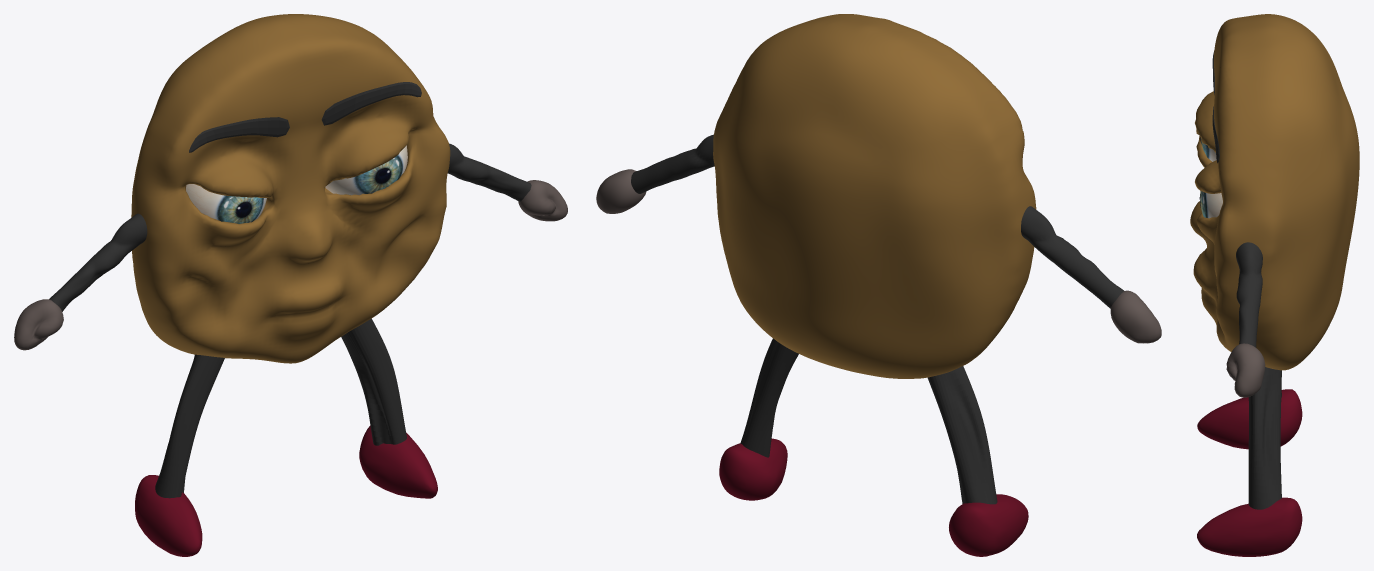
The model's file is Potato0Donov2.fbx.
The picture shows the model from 3 angles, left to right: view 1: azimuth 30°, elevation 25°; view 2: azimuth 150°, elevation 25°; view 3: azimuth 270°, elevation 25°; orthographic projection. The views are drawn at different scales.
Parts seen in each view (by area): view 1: Body, Legs, Feet, Arms, Eyes, Hands, Eyebrows; view 2: Body, Legs, Feet, Arms, Hands; view 3: Body, Feet, Legs, Arms, Hands, Eyes, Eyebrows.
Boxes of the visible parts, bbox=[...] form: Body: bbox=[131, 14, 450, 363]; Legs: bbox=[155, 318, 406, 498]; Feet: bbox=[135, 425, 437, 556]; Arms: bbox=[49, 143, 531, 311]; Eyes: bbox=[186, 145, 407, 223]; Hands: bbox=[14, 180, 567, 350]; Eyebrows: bbox=[189, 82, 421, 152]; Body: bbox=[713, 14, 1036, 378]; Legs: bbox=[740, 338, 997, 504]; Feet: bbox=[719, 438, 1028, 556]; Arms: bbox=[631, 134, 1124, 308]; Hands: bbox=[596, 169, 1161, 343]; Body: bbox=[1190, 14, 1359, 370]; Feet: bbox=[1197, 389, 1302, 556]; Legs: bbox=[1248, 367, 1281, 509]; Arms: bbox=[1236, 242, 1262, 347]; Hands: bbox=[1226, 343, 1265, 397]; Eyes: bbox=[1199, 137, 1222, 218]; Eyebrows: bbox=[1212, 51, 1219, 163].
Bounding box in the file's own units: 742 × 631 × 206.
Materials: 6 (1 with a texture image).
